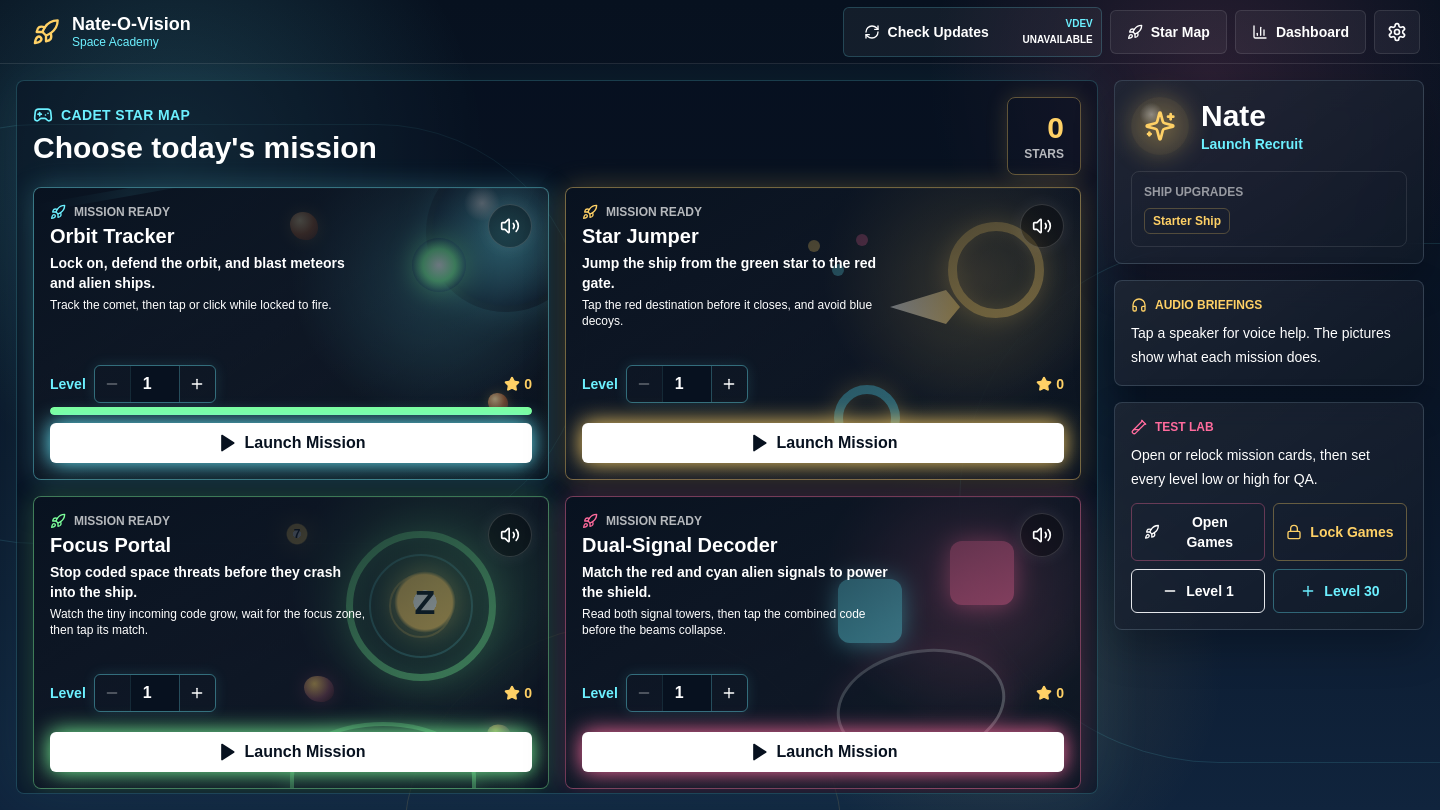
Test case: App › starts Star Jumper without requiring a parent unlock
Click the button named "Launch Mission: Star Jumper" at x=823, y=443, box [582,423,1064,463]
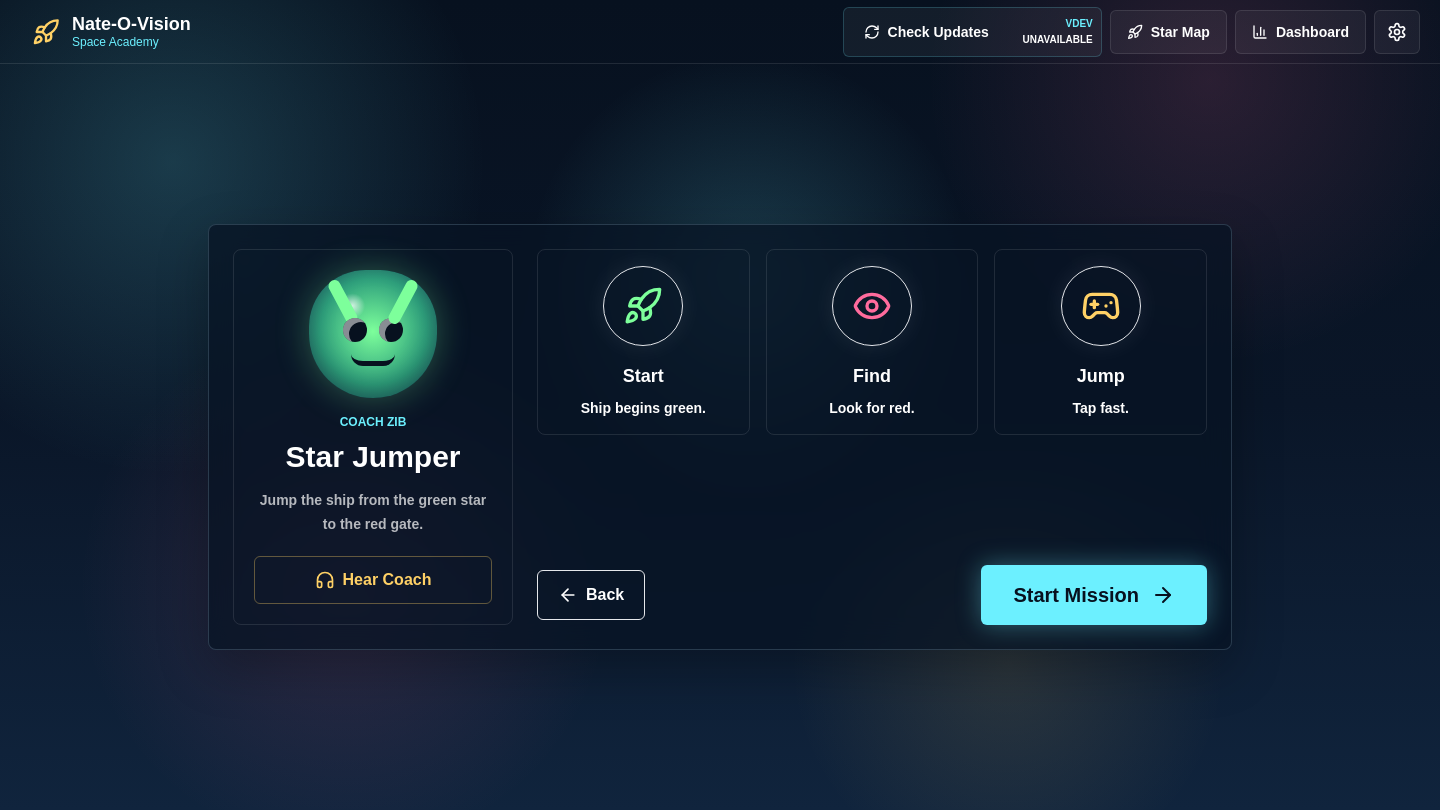
expect the text "Start" is shown: met, box [623,366,664,386]
Click the button named "Start Mission: Star Jumper" at x=1094, y=595, box [981,565,1207,625]
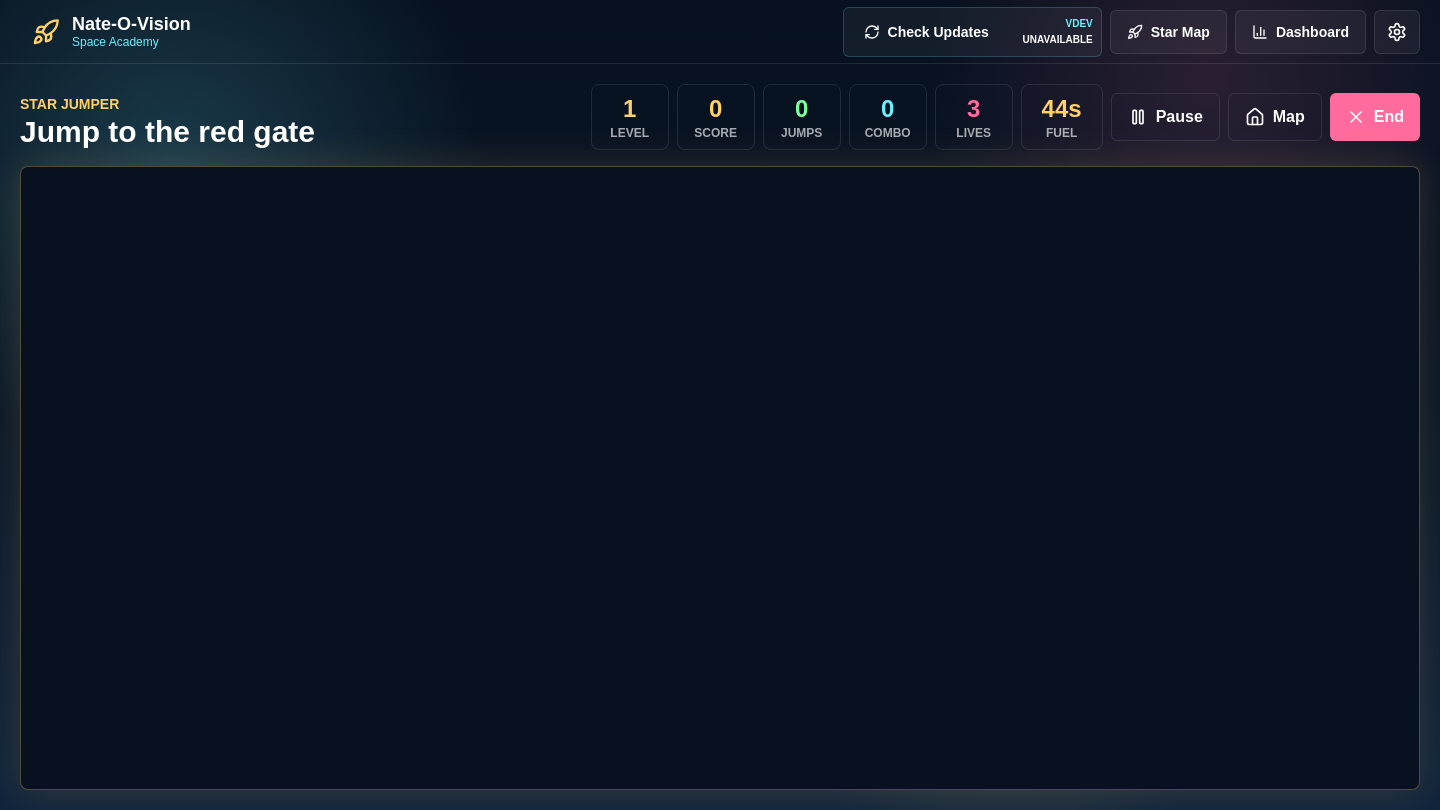
expect the heading "Jump to the red gate" is shown: met, box [20,115,315,148]
expect the drawing named "Star Jumper game surface" is shown: met
